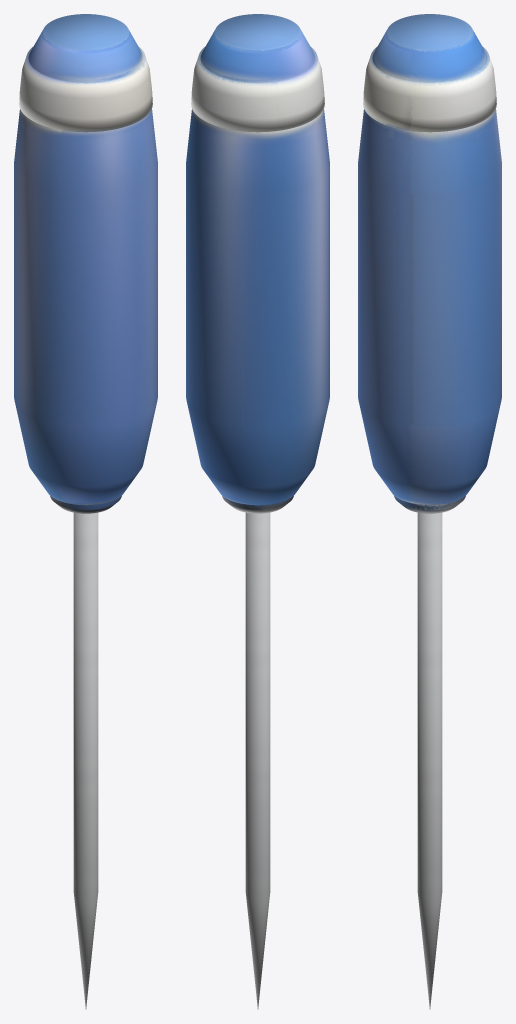
Rendered from awl.glb.
3 views of the same model, side by side, from view 1: azimuth 30°, elevation 25°; view 2: azimuth 150°, elevation 25°; view 3: azimuth 270°, elevation 25° (orthographic).
Visible parts, largest first — view 1: awl; view 2: awl; view 3: awl.
Part boxes in pixels (left/top/right/bottom): awl: left=14, top=14, right=157, bottom=1009; awl: left=186, top=14, right=329, bottom=1009; awl: left=358, top=14, right=501, bottom=1009.
Bounding box in the file's own units: 0.02 × 0.15 × 0.02.
2 materials, 2 textured.
